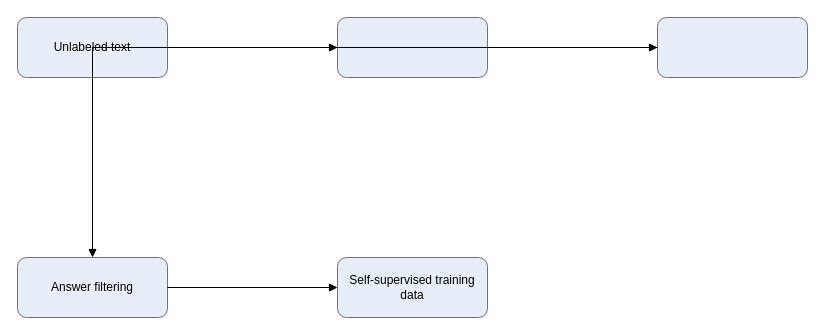
This 825x335 diagram has some shape labels left out. Here are the shapes that lost their labels. From the top down, the box of each, then its label:
(336, 16, 488, 78): API call proposal
(656, 16, 808, 78): Tool execution
